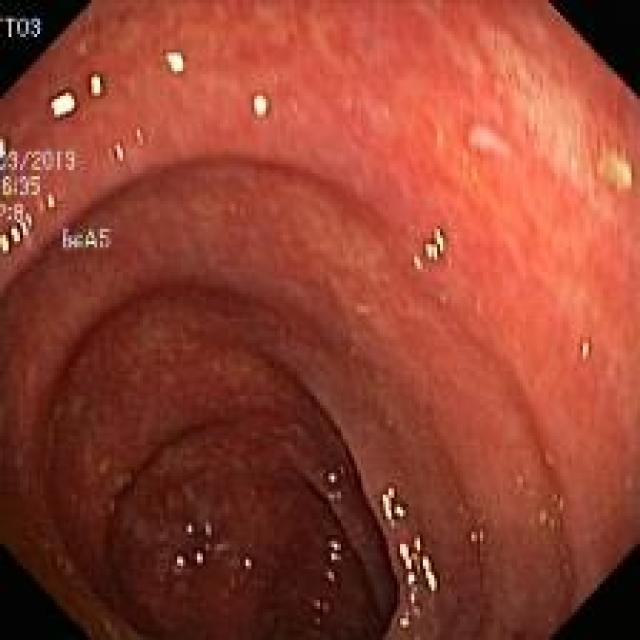ulcerative-colitis-grade-1: (0, 3, 640, 640)
